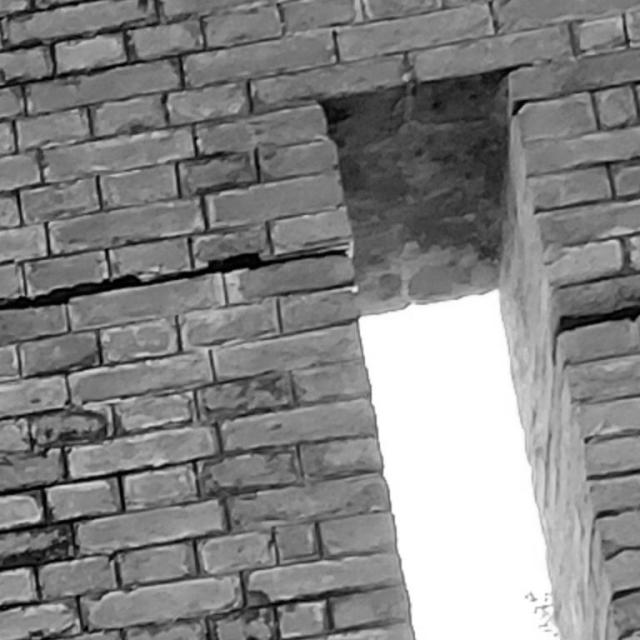crack: (1, 246, 348, 310), (552, 304, 639, 362)
